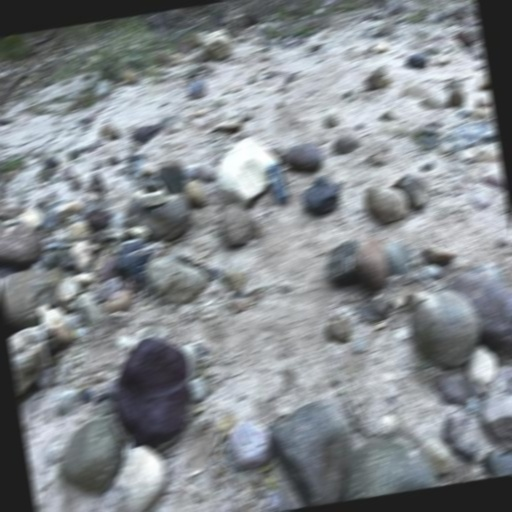bottle: (262, 158, 291, 208)
